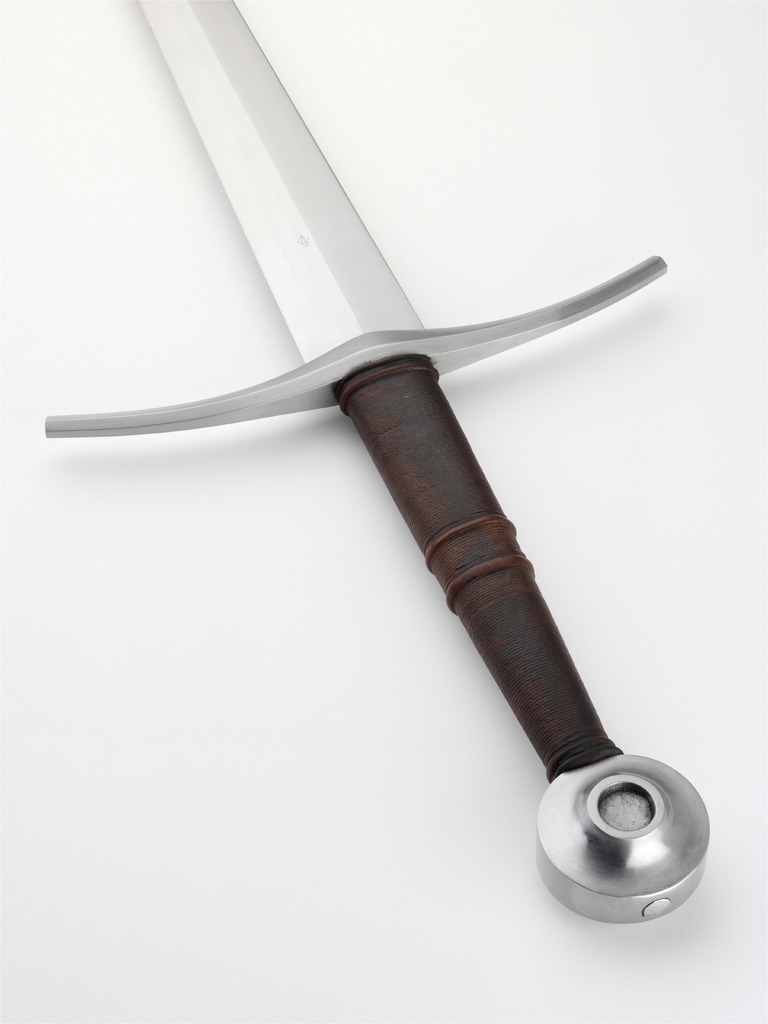sword: (114, 53, 723, 944)
